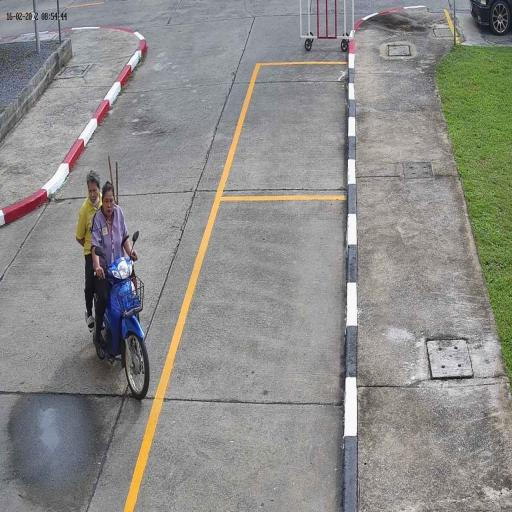motorcycle: (83, 254, 152, 400)
